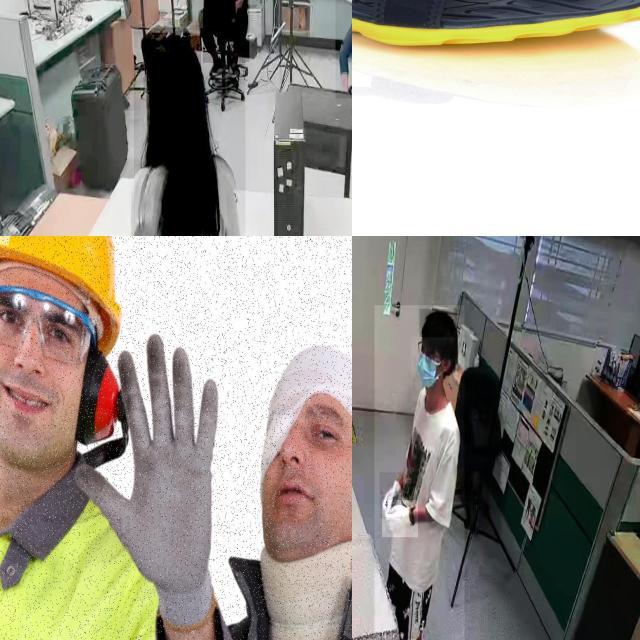Ear-protection: (0, 283, 129, 471)
Sandals: (352, 0, 640, 48)
face_mask: (411, 336, 441, 402)
glasses: (0, 268, 97, 374), (416, 339, 437, 364)
hand_glove: (382, 500, 418, 538), (379, 472, 403, 518)
head_helmet: (0, 236, 126, 343)
head_nohelmet: (256, 335, 352, 497), (145, 33, 201, 75), (420, 309, 458, 338)
person: (227, 273, 352, 640), (374, 305, 465, 640), (134, 28, 246, 236), (203, 0, 250, 63), (335, 0, 352, 99)
shoes: (208, 54, 225, 80), (226, 53, 242, 79)
vest: (0, 462, 160, 640)
